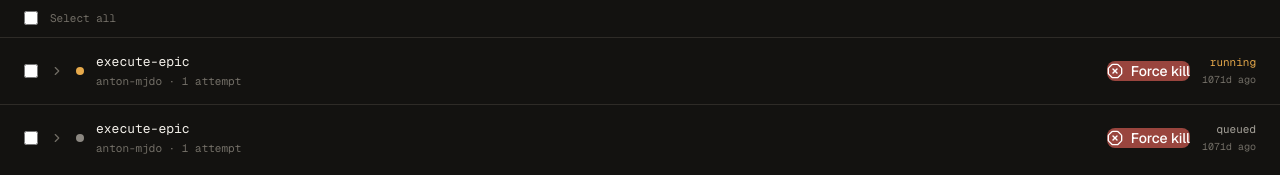
Test: JobList row selection › goes indeterminate on a partial selection and fully checked once every row is picked
Click the checkbox named "Select execute-epic job j-a for bulk kill": coordinates (31, 70) x1=24 y1=64 x2=38 y2=78
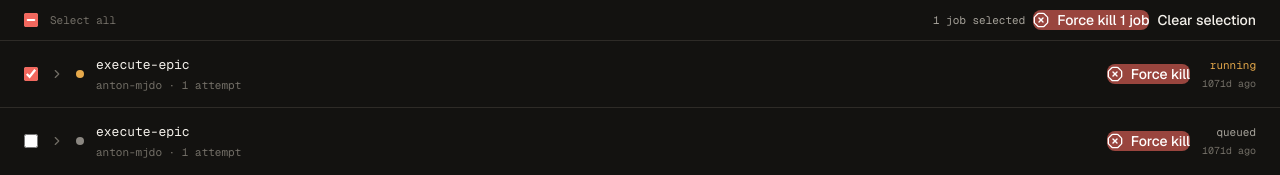
Check: the checkbox labelled "Select all" is not checked, box x1=24 y1=13 x2=38 y2=27
Click the checkbox named "Select execute-epic job j-b for bulk kill": coordinates (31, 141) x1=24 y1=134 x2=38 y2=148
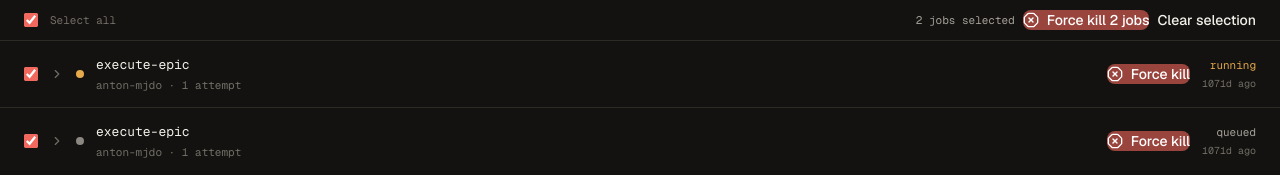
Check: the checkbox labelled "Select all" is checked, box x1=24 y1=13 x2=38 y2=27
